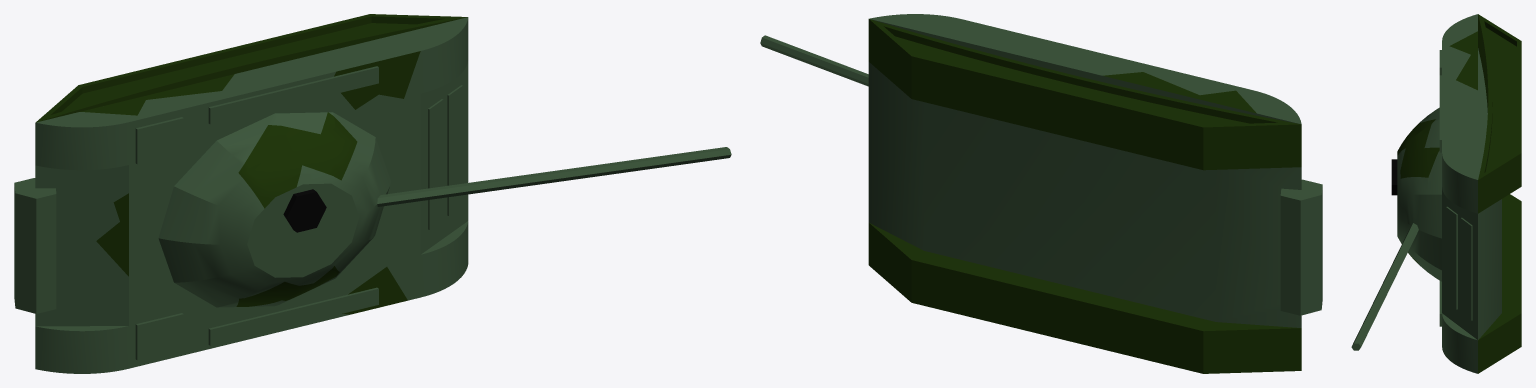
The model's file is type62.dae.
3 renders of one model, left to right at view 1: azimuth 30°, elevation 25°; view 2: azimuth 150°, elevation 25°; view 3: azimuth 270°, elevation 25°, orthographic. The views are drawn at different scales.
Visible parts, largest first — view 1: coords_ME_ID17_MA_Type62_part_1, coords_ME_ID71_MA_Type62_part_1, coords_ME_ID101_MA_Type62_part_2, coords_ME_ID95_MA_Type62_part_4, coords_ME_ID39_MA_Type62_part_4, coords_ME_ID107_MA_Type62_part_2, coords_ME_ID57_MA_Type62_part_1, coords_ME_ID51_MA_Type62_part_1, coords_ME_ID83_MA_Type62_part_1, coords_ME_ID77_MA_Type62_part_1, coords_ME_ID11_MA_Type62_part_2, coords_ME_ID3_MA_Type62_part_2 (+3 smaller); view 2: coords_ME_ID17_MA_Type62_part_1, coords_ME_ID25_MA_Type62_part_4, coords_ME_ID39_MA_Type62_part_4, coords_ME_ID95_MA_Type62_part_4, coords_ME_ID11_MA_Type62_part_2, coords_ME_ID71_MA_Type62_part_1; view 3: coords_ME_ID17_MA_Type62_part_1, coords_ME_ID71_MA_Type62_part_1, coords_ME_ID25_MA_Type62_part_4, coords_ME_ID39_MA_Type62_part_4, coords_ME_ID95_MA_Type62_part_4, coords_ME_ID101_MA_Type62_part_2, coords_ME_ID77_MA_Type62_part_1, coords_ME_ID83_MA_Type62_part_1, coords_ME_ID11_MA_Type62_part_2, coords_ME_ID63_MA_Type62_part_3.
Boxes of the visible parts, x1=… form: coords_ME_ID17_MA_Type62_part_1: x1=14, y1=17, x2=468, y2=373; coords_ME_ID71_MA_Type62_part_1: x1=158, y1=112, x2=731, y2=307; coords_ME_ID101_MA_Type62_part_2: x1=238, y1=112, x2=357, y2=208; coords_ME_ID95_MA_Type62_part_4: x1=51, y1=16, x2=444, y2=114; coords_ME_ID39_MA_Type62_part_4: x1=36, y1=14, x2=467, y2=122; coords_ME_ID107_MA_Type62_part_2: x1=334, y1=51, x2=420, y2=109; coords_ME_ID57_MA_Type62_part_1: x1=135, y1=117, x2=183, y2=164; coords_ME_ID51_MA_Type62_part_1: x1=135, y1=313, x2=183, y2=360; coords_ME_ID83_MA_Type62_part_1: x1=428, y1=99, x2=443, y2=229; coords_ME_ID77_MA_Type62_part_1: x1=447, y1=85, x2=462, y2=215; coords_ME_ID11_MA_Type62_part_2: x1=80, y1=74, x2=234, y2=115; coords_ME_ID3_MA_Type62_part_2: x1=96, y1=193, x2=128, y2=276; coords_ME_ID17_MA_Type62_part_1: x1=868, y1=14, x2=1322, y2=327; coords_ME_ID25_MA_Type62_part_4: x1=868, y1=223, x2=1301, y2=373; coords_ME_ID39_MA_Type62_part_4: x1=868, y1=19, x2=1301, y2=170; coords_ME_ID95_MA_Type62_part_4: x1=884, y1=26, x2=1277, y2=124; coords_ME_ID11_MA_Type62_part_2: x1=1103, y1=72, x2=1256, y2=113; coords_ME_ID71_MA_Type62_part_1: x1=760, y1=35, x2=868, y2=86; coords_ME_ID17_MA_Type62_part_1: x1=1439, y1=14, x2=1501, y2=373; coords_ME_ID71_MA_Type62_part_1: x1=1351, y1=107, x2=1441, y2=350; coords_ME_ID25_MA_Type62_part_4: x1=1478, y1=194, x2=1521, y2=373; coords_ME_ID39_MA_Type62_part_4: x1=1478, y1=14, x2=1521, y2=213; coords_ME_ID95_MA_Type62_part_4: x1=1484, y1=21, x2=1516, y2=172; coords_ME_ID101_MA_Type62_part_2: x1=1397, y1=119, x2=1439, y2=178; coords_ME_ID77_MA_Type62_part_1: x1=1460, y1=217, x2=1472, y2=320; coords_ME_ID83_MA_Type62_part_1: x1=1446, y1=206, x2=1457, y2=309; coords_ME_ID11_MA_Type62_part_2: x1=1449, y1=31, x2=1477, y2=90; coords_ME_ID63_MA_Type62_part_3: x1=1391, y1=159, x2=1397, y2=195.
Bounding box in the file's own units: 130 × 48.22 × 38.38.
